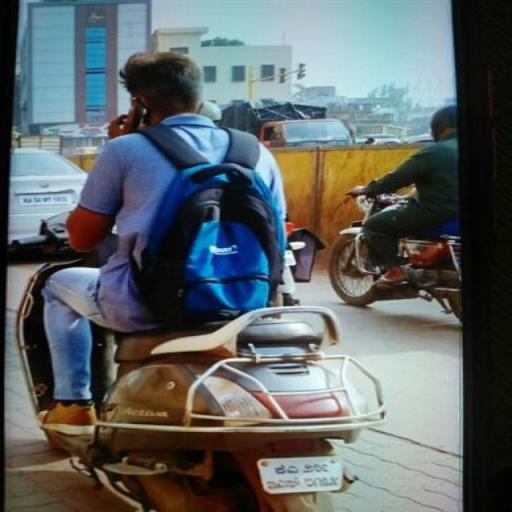using mobile: (110, 88, 156, 146)
